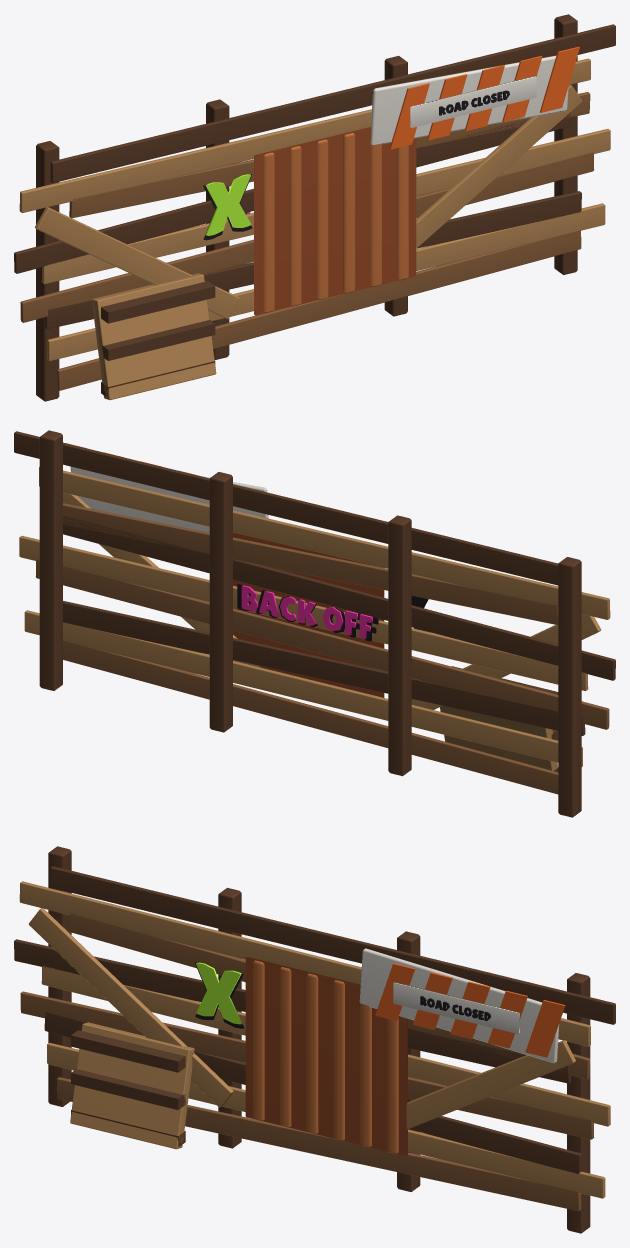
Rendered from city_gate_barricade_door.glb.
The picture shows the model from 3 angles, top to bottom: view 1: azimuth 30°, elevation 25°; view 2: azimuth 150°, elevation 25°; view 3: azimuth 330°, elevation 25°; orthographic projection.
Parts seen in each view (by area): view 1: Leaf; view 2: Leaf; view 3: Leaf.
Part boxes in pixels (x1=…): Leaf: x1=14, y1=14, x2=615, y2=401; Leaf: x1=14, y1=430, x2=615, y2=817; Leaf: x1=14, y1=846, x2=615, y2=1233.
Size of the model in its own units: 6.72 by 2.7 by 0.5968.
